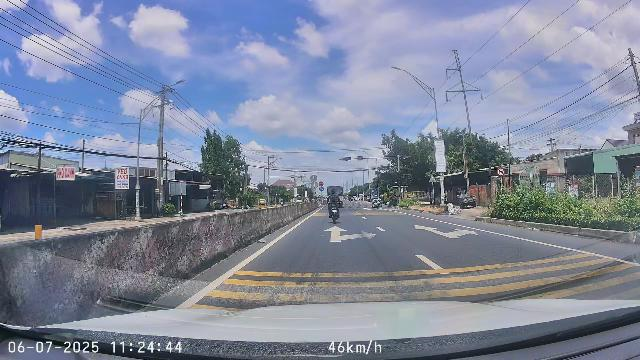103a-cam-oto: (497, 167, 505, 177)
